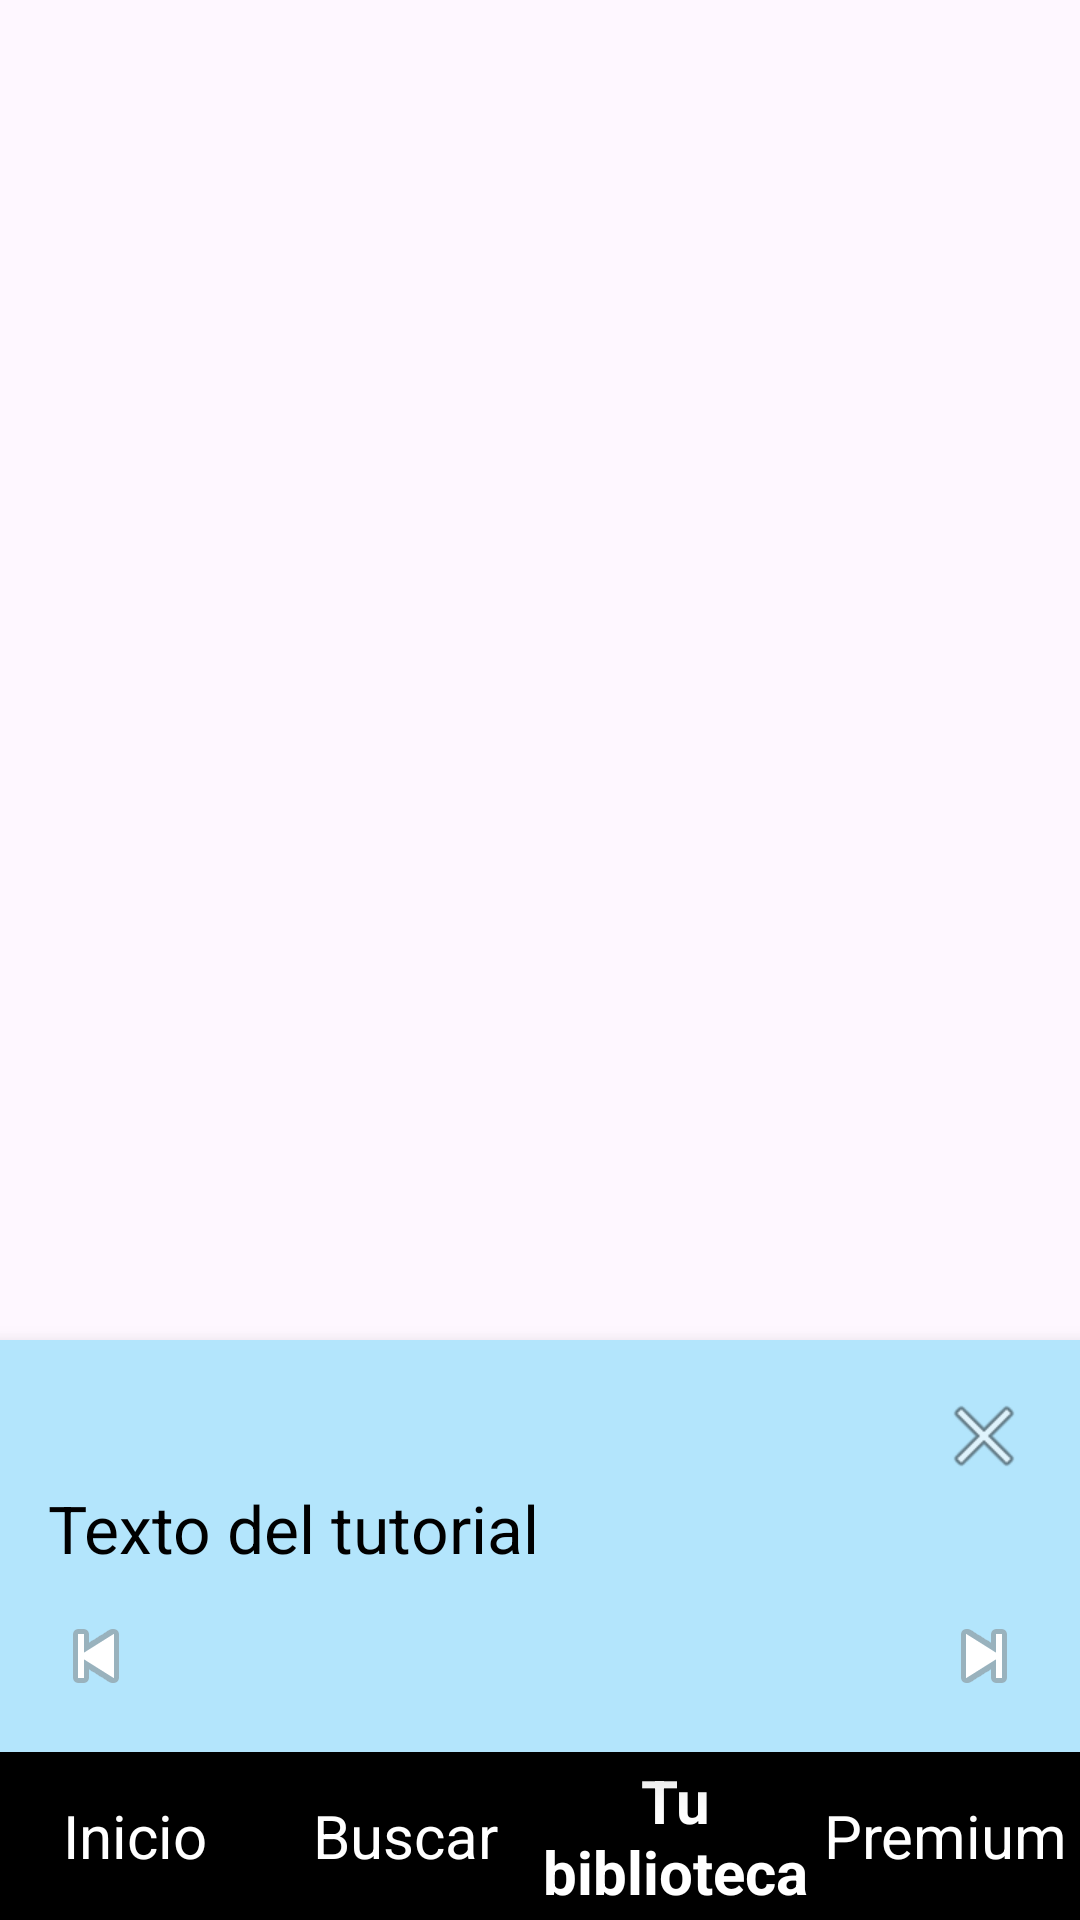

Icon bounding boxes for this 1080 x 1920 phone screenshot, format [x1, y1, x2, y2]:
Atrás: [73, 1629, 119, 1683]
close clear cancel: [954, 1406, 1014, 1466]
Siguiente: [961, 1629, 1007, 1683]
